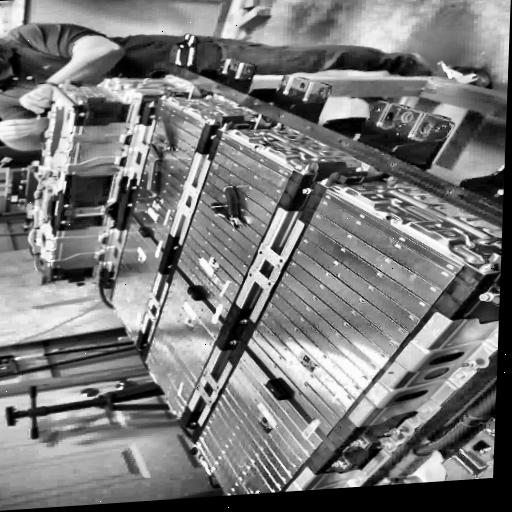battery_module: (246, 188, 464, 435), (178, 134, 293, 320), (193, 349, 323, 496), (145, 269, 223, 419), (133, 100, 204, 248), (110, 215, 164, 343)
connector: (1, 163, 46, 211)
nut: (479, 290, 500, 302), (300, 184, 316, 196), (350, 438, 366, 447), (332, 459, 345, 468), (237, 316, 252, 323), (227, 338, 241, 345), (209, 132, 218, 139), (188, 420, 198, 426), (140, 341, 150, 347), (165, 262, 173, 269), (172, 244, 180, 250)
